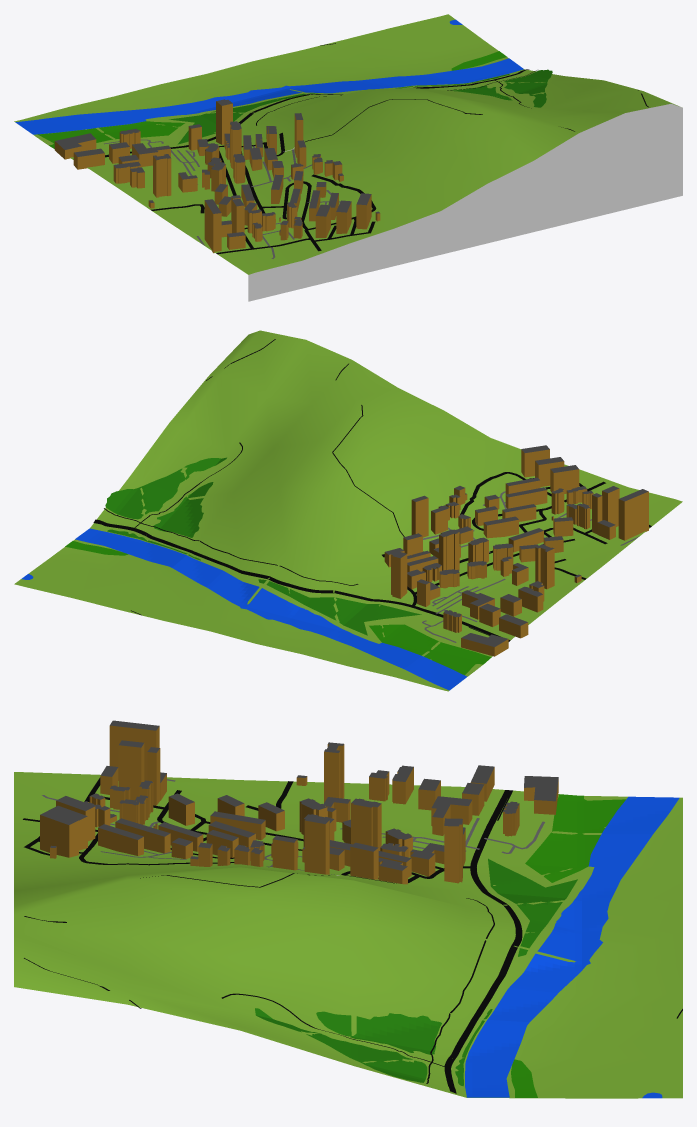
File: tile_06_00.glb
3 views of the same model, one above another, from view 1: azimuth 30°, elevation 25°; view 2: azimuth 150°, elevation 25°; view 3: azimuth 270°, elevation 25° (orthographic). The views are drawn at different scales.
Visible parts, largest first — view 1: Terrain_06_00, Ub_small.osm_buildings_06_00, Ub_small.osm_water_06_00, Ub_small.osm_forest_06_00, Ub_small.osm_roads_residential_06_00, Ub_small.osm_vegetation_06_00, Ub_small.osm_roads_service_06_00, Ub_small.osm_roads_primary_06_00, Ub_small.osm_paths_footway_06_00; view 2: Terrain_06_00, Ub_small.osm_buildings_06_00, Ub_small.osm_water_06_00, Ub_small.osm_forest_06_00, Ub_small.osm_vegetation_06_00, Ub_small.osm_roads_primary_06_00, Ub_small.osm_roads_residential_06_00, Ub_small.osm_paths_footway_06_00, Ub_small.osm_roads_service_06_00; view 3: Terrain_06_00, Ub_small.osm_buildings_06_00, Ub_small.osm_water_06_00, Ub_small.osm_forest_06_00, Ub_small.osm_vegetation_06_00, Ub_small.osm_roads_primary_06_00, Ub_small.osm_roads_residential_06_00, Ub_small.osm_paths_footway_06_00, Ub_small.osm_roads_service_06_00.
Part boxes in pixels (left/top/right/bottom): Terrain_06_00: left=14, top=14, right=682, bottom=301; Ub_small.osm_buildings_06_00: left=54, top=99, right=380, bottom=253; Ub_small.osm_water_06_00: left=15, top=19, right=523, bottom=134; Ub_small.osm_forest_06_00: left=169, top=69, right=552, bottom=144; Ub_small.osm_roads_residential_06_00: left=151, top=132, right=376, bottom=254; Ub_small.osm_vegetation_06_00: left=37, top=51, right=506, bottom=148; Ub_small.osm_roads_service_06_00: left=104, top=139, right=340, bottom=258; Ub_small.osm_roads_primary_06_00: left=105, top=69, right=529, bottom=157; Ub_small.osm_paths_footway_06_00: left=105, top=43, right=648, bottom=155; Terrain_06_00: left=14, top=330, right=682, bottom=691; Ub_small.osm_buildings_06_00: left=384, top=445, right=648, bottom=656; Ub_small.osm_water_06_00: left=21, top=528, right=467, bottom=690; Ub_small.osm_forest_06_00: left=105, top=457, right=421, bottom=635; Ub_small.osm_vegetation_06_00: left=65, top=541, right=491, bottom=675; Ub_small.osm_roads_primary_06_00: left=93, top=519, right=510, bottom=641; Ub_small.osm_roads_residential_06_00: left=382, top=472, right=651, bottom=606; Ub_small.osm_paths_footway_06_00: left=104, top=339, right=489, bottom=635; Ub_small.osm_roads_service_06_00: left=422, top=491, right=638, bottom=642; Terrain_06_00: left=14, top=772, right=682, bottom=1098; Ub_small.osm_buildings_06_00: left=40, top=720, right=558, bottom=884; Ub_small.osm_water_06_00: left=465, top=796, right=679, bottom=1098; Ub_small.osm_forest_06_00: left=255, top=858, right=577, bottom=1086; Ub_small.osm_vegetation_06_00: left=511, top=794, right=625, bottom=1097; Ub_small.osm_roads_primary_06_00: left=444, top=790, right=522, bottom=1093; Ub_small.osm_roads_residential_06_00: left=23, top=777, right=473, bottom=883; Ub_small.osm_paths_footway_06_00: left=24, top=790, right=682, bottom=1083; Ub_small.osm_roads_service_06_00: left=42, top=779, right=544, bottom=874.
Bounding box in the file's own units: 1004 × 208 × 914.
